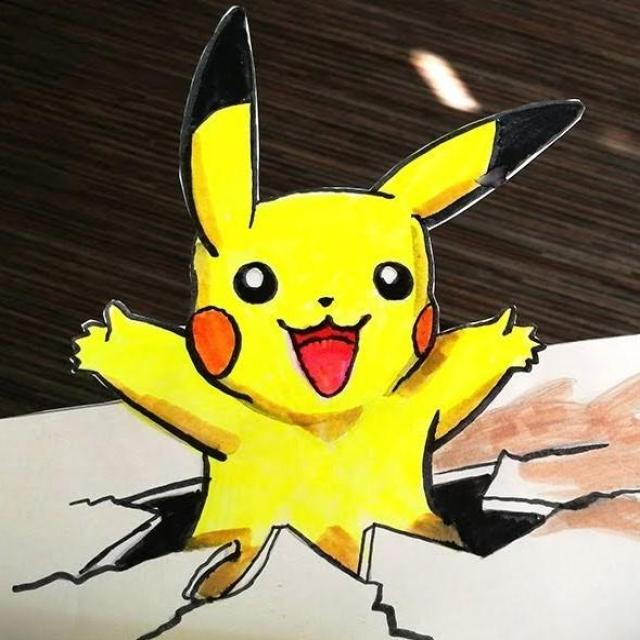pikachu: (71, 6, 582, 534)
